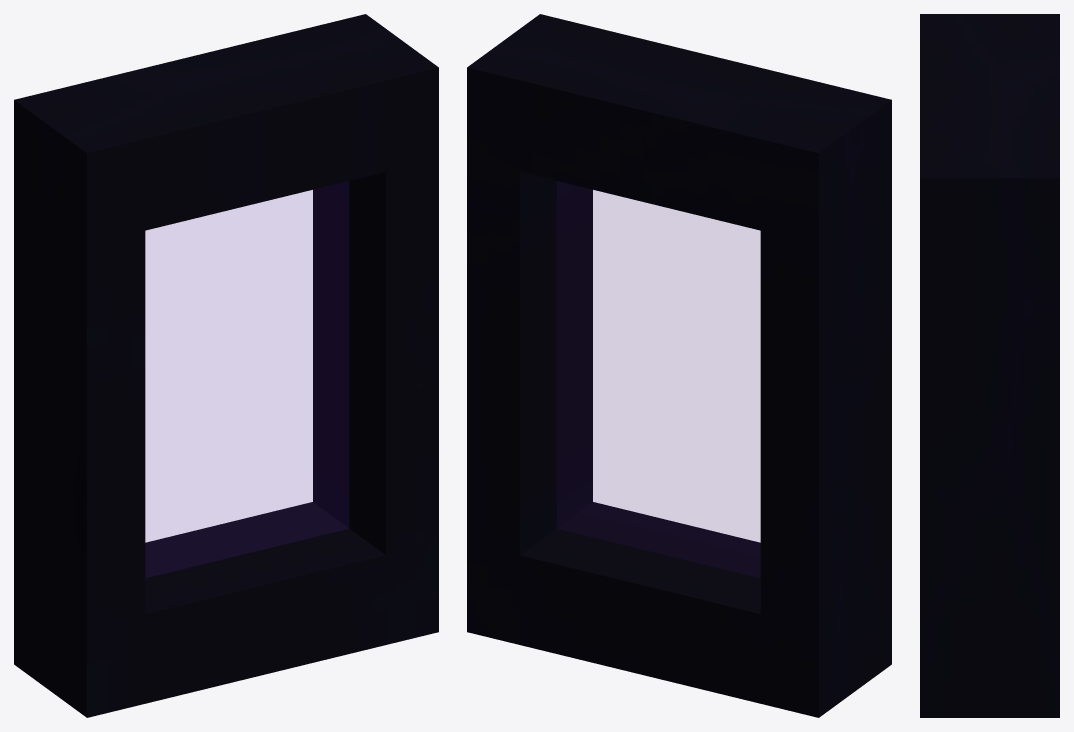
Rendered from Portal.obj.
3 renders of one model, left to right at view 1: azimuth 30°, elevation 25°; view 2: azimuth 150°, elevation 25°; view 3: azimuth 270°, elevation 25°, orthographic. The views are drawn at different scales.
Parts seen in each view (by area): view 1: NetherPortal_Cube.006, Cube_Cube.008; view 2: NetherPortal_Cube.006, Cube_Cube.008; view 3: NetherPortal_Cube.006.
Boxes of the visible parts, box(x1,y1,x2,y2) form: NetherPortal_Cube.006: box(14, 14, 438, 717); Cube_Cube.008: box(146, 181, 348, 577); NetherPortal_Cube.006: box(467, 14, 891, 717); Cube_Cube.008: box(557, 181, 759, 577); NetherPortal_Cube.006: box(920, 14, 1059, 717).
Bounding box in the file's own units: 1.5 × 2.3 × 0.54.
Materials: 2 (1 with a texture image).
